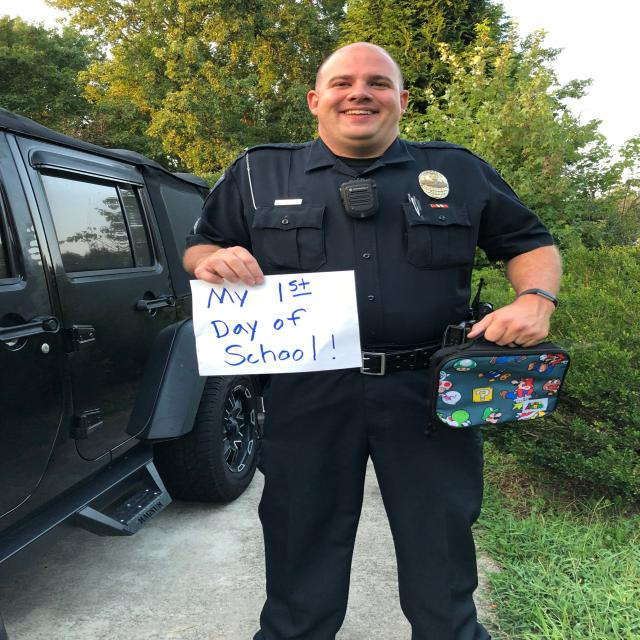police: (122, 4, 574, 633)
